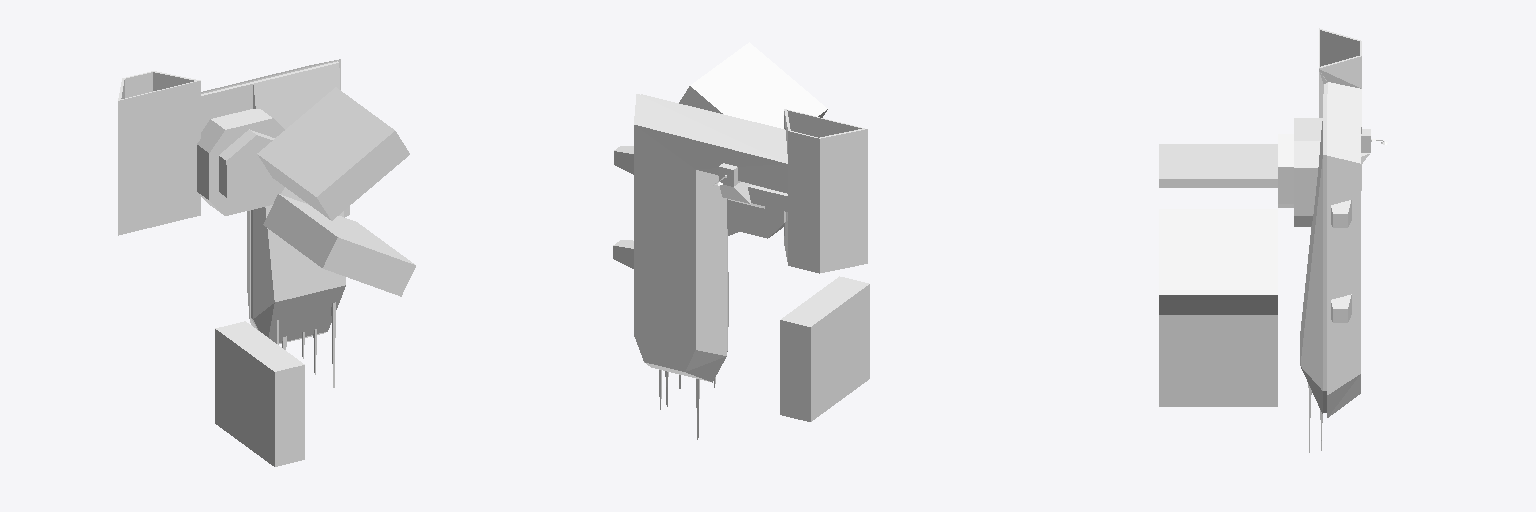
3 renders of one model, left to right at view 1: azimuth 30°, elevation 25°; view 2: azimuth 150°, elevation 25°; view 3: azimuth 270°, elevation 25°, orthographic.
Visible parts, largest first — view 1: frm-docbay, frm-fuselg3, frm-platfm2, frm-fuselg5, frm-fuselg4, frm-platfm3, frm-ffuselg, frm-fuselg; view 2: frm-fuselg, frm-docbay, frm-fuselg5, frm-fuselg3, frm-platfm3, frm-tcontwr, frm-corrdr; view 3: frm-fuselg4, frm-fuselg, frm-fuselg5, frm-fuselg3, frm-platfm2, frm-platfm3, frm-docbay, frm-ffuselg.
Boxes of the visible parts, box(x1,y1,x2,y2) form: frm-docbay: box(118, 71, 200, 235); frm-fuselg3: box(257, 87, 409, 220); frm-platfm2: box(253, 63, 345, 343); frm-fuselg5: box(215, 321, 304, 466); frm-fuselg4: box(263, 194, 415, 296); frm-platfm3: box(197, 109, 284, 215); frm-ffuselg: box(219, 129, 282, 207); frm-fuselg: box(201, 59, 340, 343); frm-fuselg: box(634, 94, 787, 382); frm-docbay: box(784, 109, 867, 273); frm-fuselg5: box(780, 276, 869, 421); frm-fuselg3: box(679, 42, 827, 128); frm-platfm3: box(727, 188, 785, 238); frm-tcontwr: box(719, 163, 764, 208); frm-corrdr: box(748, 185, 787, 211); frm-fuselg4: box(1159, 209, 1277, 314); frm-fuselg: box(1323, 82, 1361, 417); frm-fuselg5: box(1159, 315, 1277, 406); frm-fuselg3: box(1159, 144, 1277, 187); frm-platfm2: box(1300, 121, 1322, 413); frm-platfm3: box(1294, 118, 1322, 226); frm-docbay: box(1319, 28, 1361, 190); frm-ffuselg: box(1278, 134, 1293, 207).
Size of the model in its own units: 90.68 by 130 by 78.51.